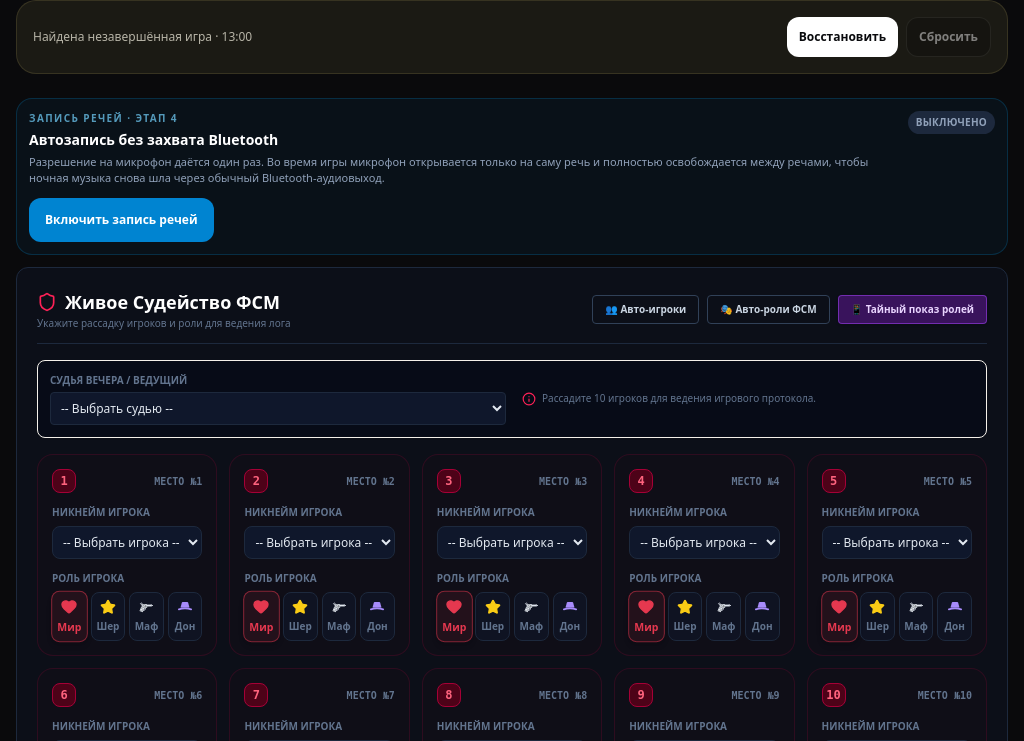
Test: Live Game table-decision recovery › restores the exact player cards selected for raise/leave after reload
Click the button "Восстановить".
click(842, 37)  # box [787, 17, 898, 57]
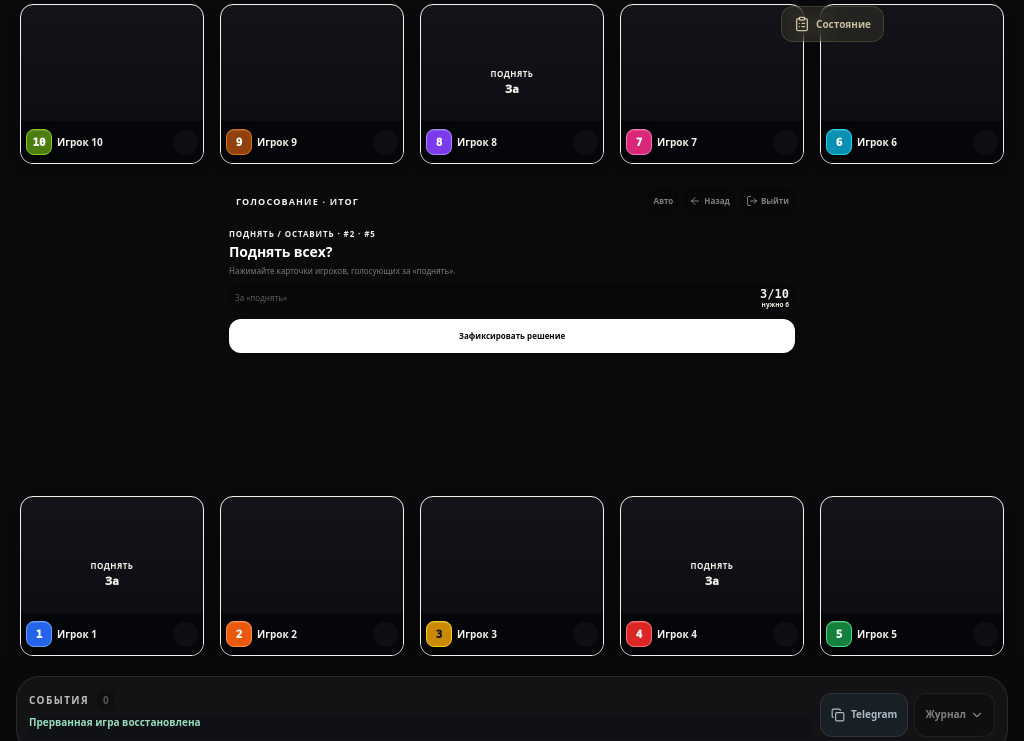
Check: the text "Поднять всех?" is shown, box [229, 242, 332, 261]
Check: the text "3/10" is shown, box [760, 288, 789, 308]
